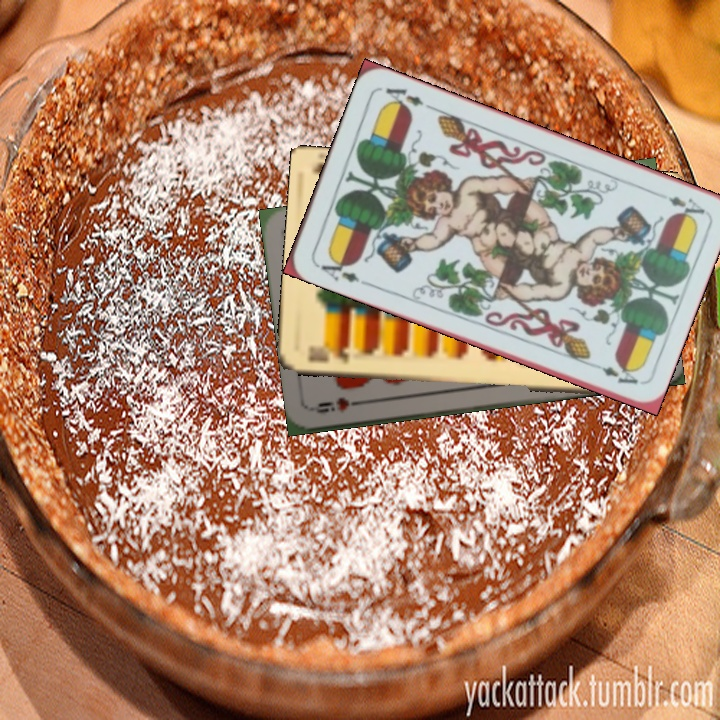E10: (304, 341, 351, 366)
EA: (312, 252, 369, 288), (650, 188, 707, 222)
H9: (310, 393, 369, 416)
